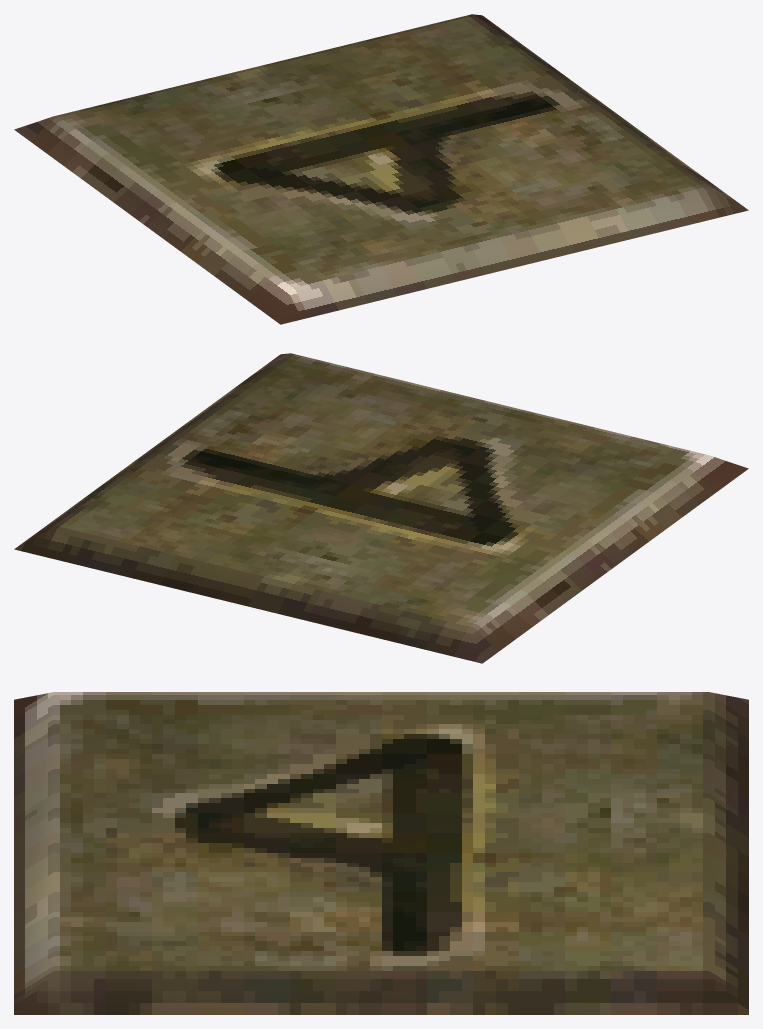
Rendered from EREBOR_RUNE_PZL_EREBOR_PZL_TILE_STATIC12.fbx.
3 views of the same model, one above another, from view 1: azimuth 30°, elevation 25°; view 2: azimuth 150°, elevation 25°; view 3: azimuth 270°, elevation 25° (orthographic). The views are drawn at different scales.
Visible parts, largest first — view 1: EREBOR_RUNE_PZL_EREBOR_PZL_TILE_STATIC12; view 2: EREBOR_RUNE_PZL_EREBOR_PZL_TILE_STATIC12; view 3: EREBOR_RUNE_PZL_EREBOR_PZL_TILE_STATIC12.
Boxes of the visible parts, box(x1,y1,x2,y2) form: EREBOR_RUNE_PZL_EREBOR_PZL_TILE_STATIC12: box(14, 14, 748, 324); EREBOR_RUNE_PZL_EREBOR_PZL_TILE_STATIC12: box(14, 353, 748, 663); EREBOR_RUNE_PZL_EREBOR_PZL_TILE_STATIC12: box(14, 692, 748, 1014).
Bounding box in the file's own units: 10240 × 370 × 10093.
Materials: 1 (1 with a texture image).
